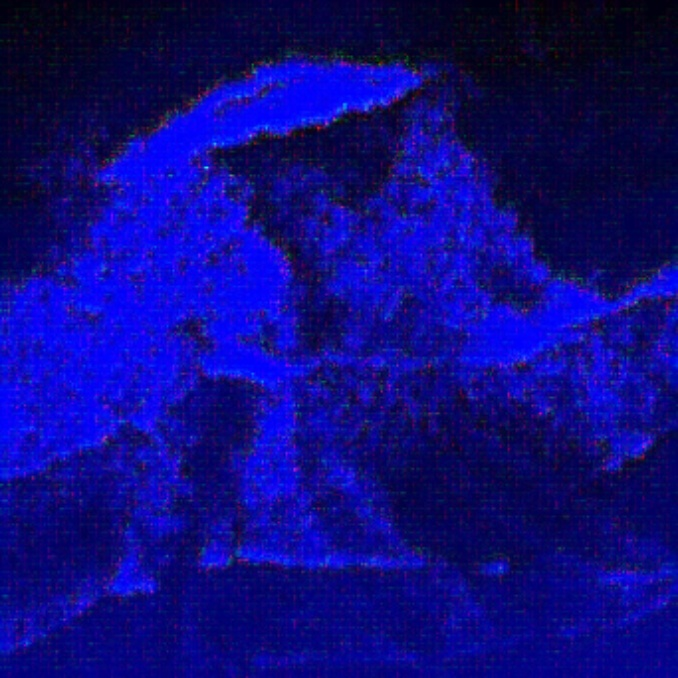rip_current: (200, 115, 472, 564)
